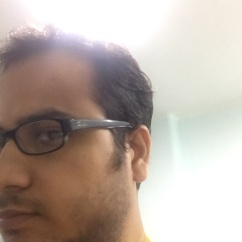glasses: (2, 122, 133, 150)
